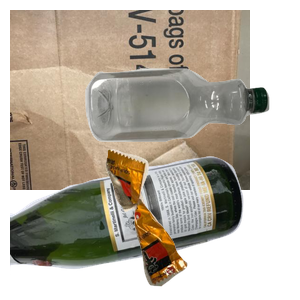cardboard: (10, 10, 250, 190)
glass: (10, 154, 246, 300)
plastic: (83, 66, 300, 201)
trash: (103, 147, 300, 300)
